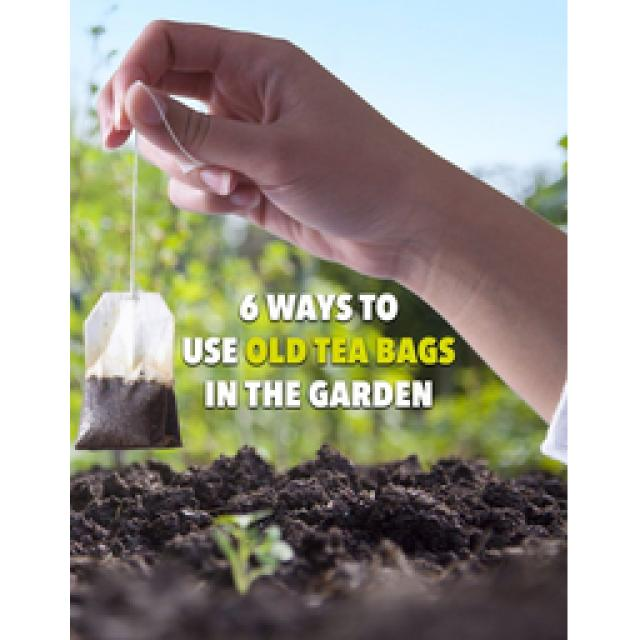tea-bags: (73, 291, 185, 452)
